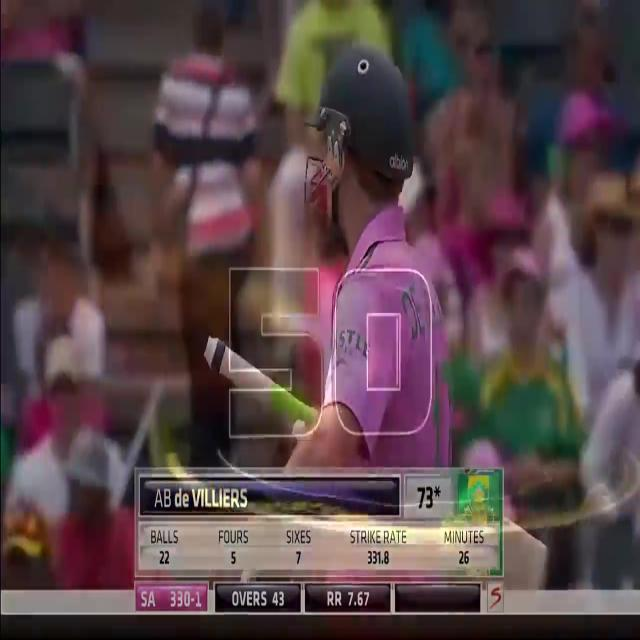Ball: (311, 42, 494, 470)
